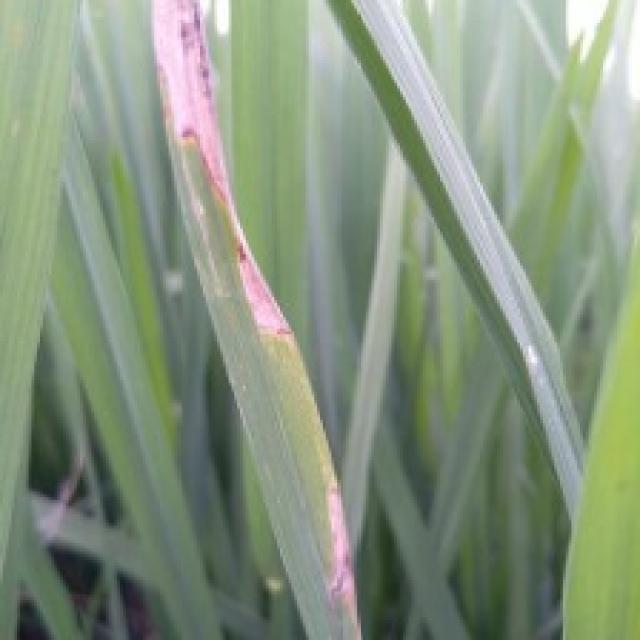Rice___Rice_Blast: (150, 0, 364, 637)
